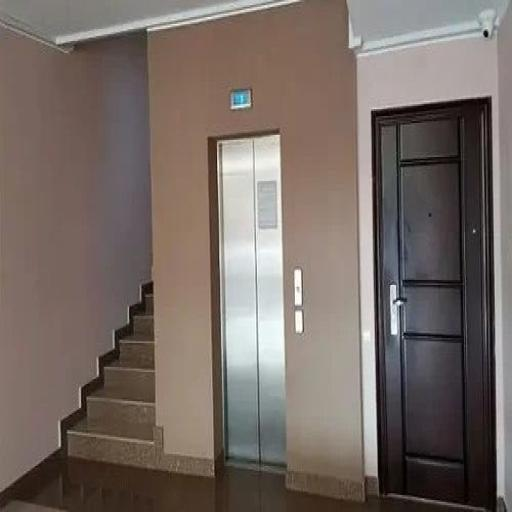corridor: (374, 101, 494, 506), (219, 135, 285, 465)
crosswalk: (200, 124, 317, 492)
sofa: (68, 294, 156, 467)
